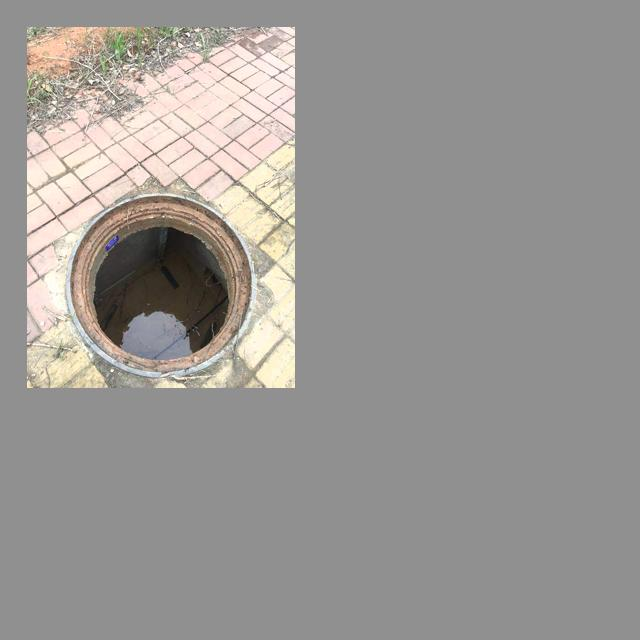lose: (65, 188, 262, 370)
